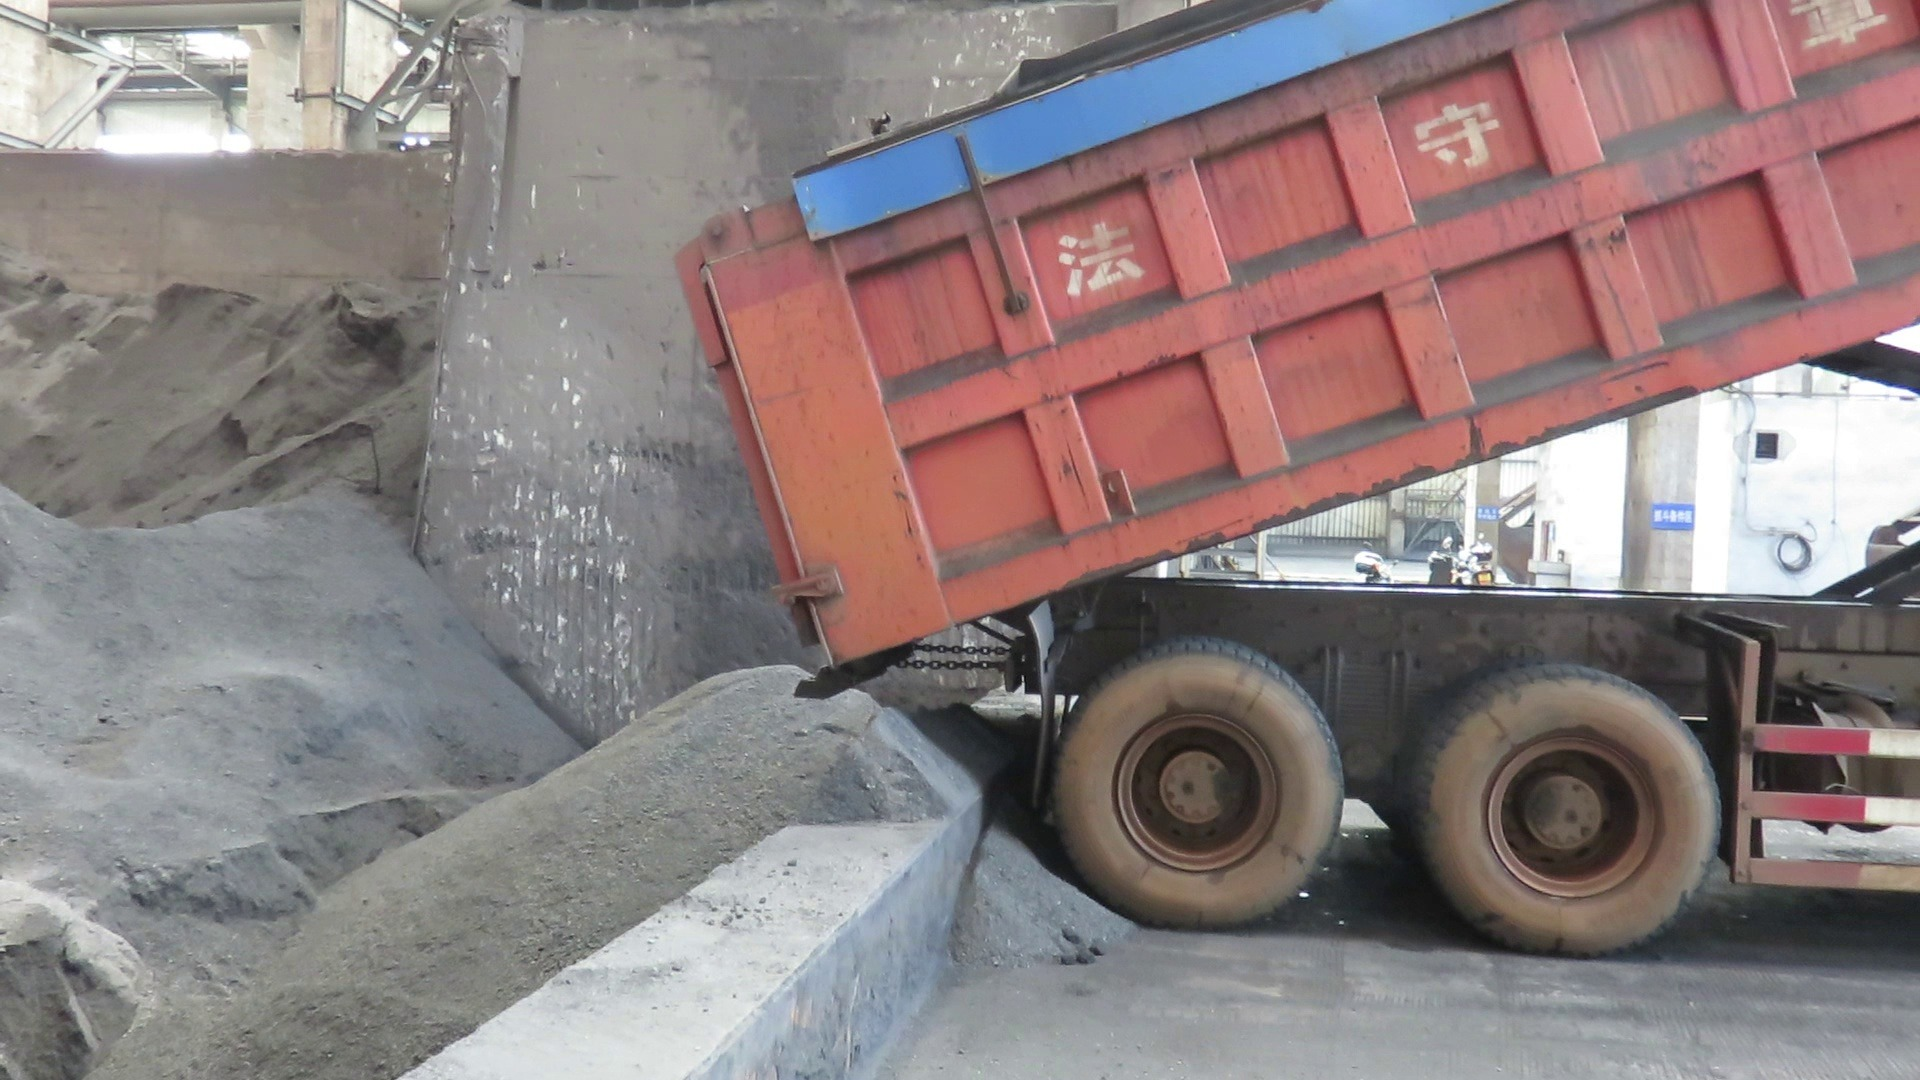truck: (654, 0, 1919, 975)
